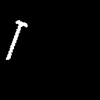half_double_crochet: (6, 20, 26, 59)
